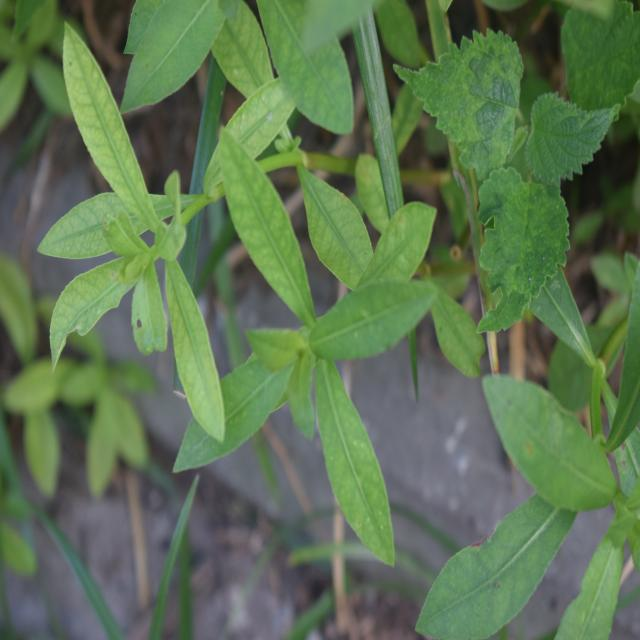Alligatorweed: (211, 136, 406, 589), (44, 17, 247, 435)
